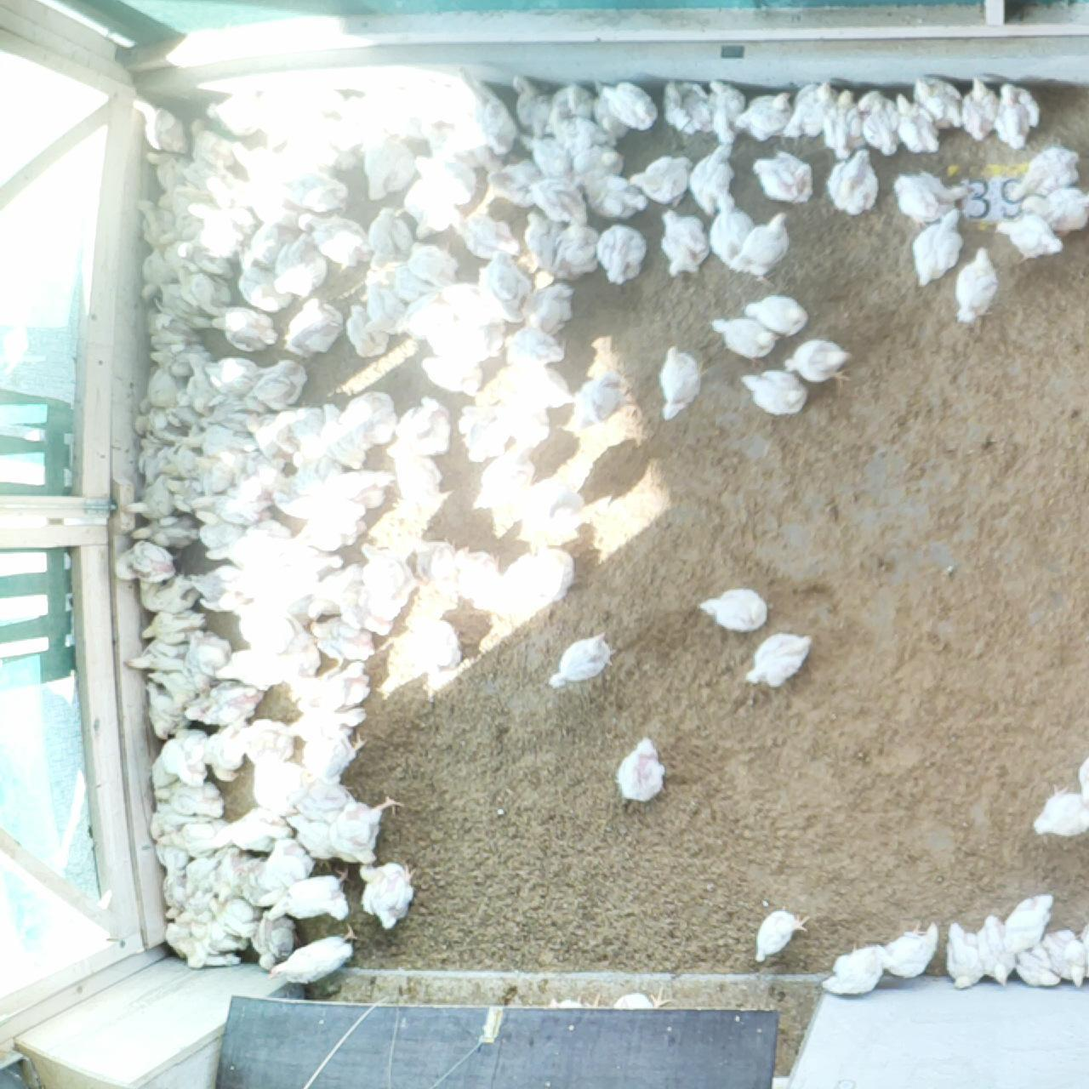chicken: (268, 918, 365, 990), (329, 783, 403, 865), (471, 433, 540, 515), (731, 212, 795, 298), (458, 66, 519, 156), (543, 627, 622, 694), (738, 626, 818, 691), (1006, 141, 1088, 204), (181, 675, 269, 733), (266, 865, 354, 923), (654, 342, 714, 427), (912, 201, 966, 295), (691, 580, 775, 640), (891, 165, 973, 225), (491, 353, 577, 410), (383, 392, 454, 461), (354, 128, 419, 202), (476, 248, 536, 328), (357, 854, 419, 931), (747, 141, 817, 208), (751, 904, 817, 975), (814, 941, 896, 998), (824, 143, 885, 219), (243, 353, 316, 416), (608, 732, 670, 805), (516, 476, 585, 541), (561, 368, 624, 438), (627, 148, 695, 210), (283, 294, 345, 362), (954, 242, 1003, 328), (414, 524, 469, 600), (880, 917, 945, 981), (994, 209, 1069, 264), (490, 385, 554, 449), (656, 207, 712, 279), (271, 230, 332, 296), (415, 148, 481, 209), (785, 336, 855, 393), (1018, 181, 1089, 237), (311, 465, 401, 509), (738, 367, 814, 419), (295, 727, 371, 779), (687, 138, 738, 215), (215, 803, 295, 852), (1003, 888, 1062, 954), (527, 170, 593, 229), (990, 80, 1043, 153), (705, 191, 755, 268), (299, 212, 373, 264), (206, 519, 291, 564), (185, 566, 263, 615), (271, 167, 354, 213), (329, 582, 398, 637), (317, 400, 371, 470), (507, 546, 577, 600), (596, 216, 649, 287), (942, 920, 992, 995), (577, 167, 649, 219), (708, 312, 781, 363), (911, 70, 970, 133), (499, 321, 573, 371), (361, 543, 420, 605), (206, 304, 282, 352), (458, 400, 514, 465), (418, 346, 486, 399), (782, 78, 840, 140), (819, 86, 867, 160), (857, 86, 907, 157), (661, 78, 718, 140), (740, 289, 812, 338), (405, 614, 469, 669), (308, 556, 362, 621), (1030, 782, 1089, 841), (129, 95, 189, 153), (450, 209, 518, 260), (891, 89, 944, 154), (737, 87, 796, 145), (521, 279, 577, 340), (284, 704, 371, 743), (340, 388, 399, 445), (602, 77, 662, 133), (205, 716, 252, 787), (482, 154, 541, 210), (213, 647, 291, 689), (428, 320, 506, 362), (136, 570, 204, 618), (361, 273, 412, 336), (366, 205, 416, 269), (143, 681, 196, 741), (957, 71, 1003, 140), (233, 713, 295, 764), (115, 536, 182, 583), (341, 301, 395, 359), (701, 75, 747, 143), (310, 616, 378, 662), (454, 543, 507, 602), (978, 915, 1021, 987), (120, 634, 185, 681), (155, 778, 227, 820), (402, 78, 461, 129), (126, 512, 205, 550), (399, 296, 460, 345), (154, 814, 223, 857), (316, 659, 373, 711), (183, 422, 261, 460), (251, 754, 306, 807), (1042, 927, 1089, 989), (233, 604, 297, 649), (250, 913, 301, 969), (178, 624, 235, 674), (177, 263, 234, 313), (511, 73, 554, 139), (1010, 943, 1065, 994), (276, 490, 369, 520), (121, 474, 181, 520), (390, 453, 450, 499), (589, 77, 630, 144), (234, 264, 294, 309), (139, 608, 208, 647), (288, 514, 355, 554), (213, 82, 264, 134), (525, 210, 564, 278), (188, 116, 238, 168), (523, 134, 576, 183), (294, 775, 348, 823), (239, 217, 286, 272), (184, 166, 245, 208), (406, 239, 459, 287), (278, 537, 344, 575), (284, 810, 336, 858), (201, 354, 263, 394), (235, 454, 290, 499), (209, 894, 263, 939), (552, 114, 619, 150), (239, 174, 290, 221), (263, 834, 318, 877), (131, 197, 177, 248), (146, 341, 213, 376), (414, 186, 458, 239), (438, 279, 496, 319), (189, 917, 254, 952), (571, 142, 627, 182), (176, 236, 230, 277), (132, 368, 178, 416), (214, 494, 277, 529), (383, 261, 441, 299), (172, 371, 216, 421), (279, 451, 327, 496), (242, 411, 284, 462), (231, 139, 284, 178), (192, 505, 241, 546), (287, 409, 328, 458), (145, 309, 202, 344), (143, 147, 191, 188), (548, 77, 598, 116), (242, 867, 288, 909), (203, 204, 255, 241), (137, 246, 171, 302), (286, 628, 324, 678), (175, 728, 216, 774), (216, 845, 255, 892), (213, 389, 250, 438), (182, 851, 220, 898), (146, 666, 197, 701), (611, 983, 670, 1013), (132, 405, 185, 438), (153, 840, 190, 887), (190, 454, 230, 497), (134, 435, 166, 486), (159, 211, 209, 242), (323, 114, 361, 154), (158, 441, 200, 477), (164, 478, 211, 510), (178, 887, 217, 923), (157, 184, 211, 210), (158, 737, 187, 782), (160, 871, 187, 919), (163, 238, 199, 274), (178, 936, 215, 971), (147, 809, 182, 845), (149, 753, 178, 788), (162, 922, 188, 958), (1075, 754, 1089, 811), (217, 238, 226, 239)
